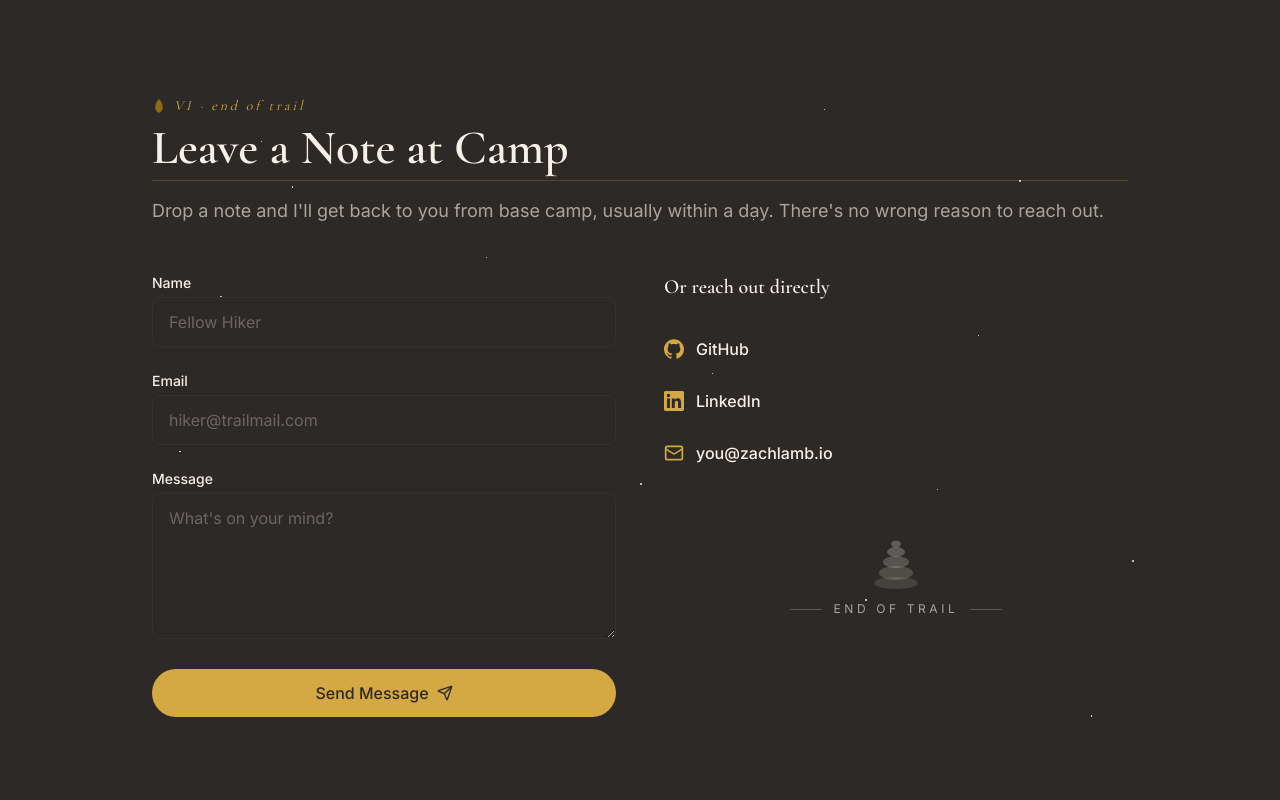
Scenario: Contact › Send another button resets to form
In the field labelled "Name": x=384, y=322 [152,297,616,347], type "Test"
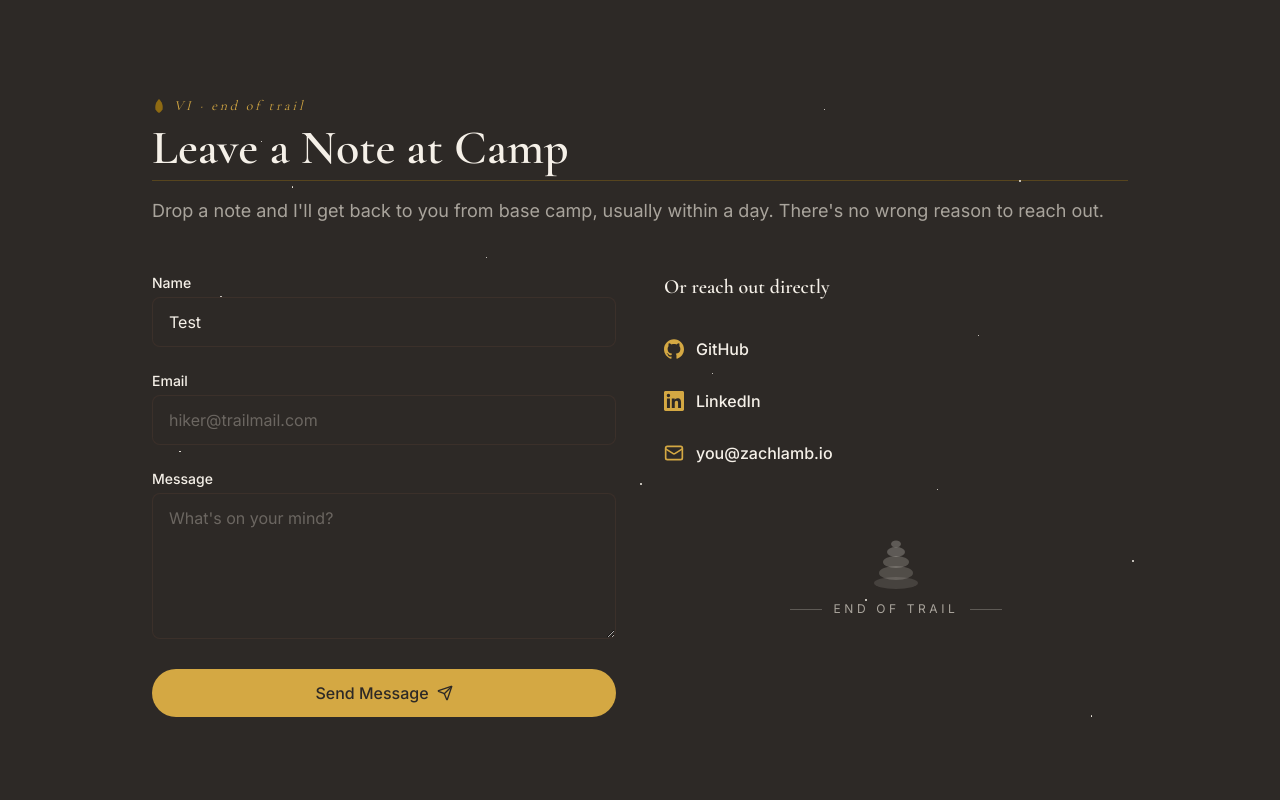
In the field labelled "Email": x=384, y=420 [152,395,616,445], type "test@test.com"
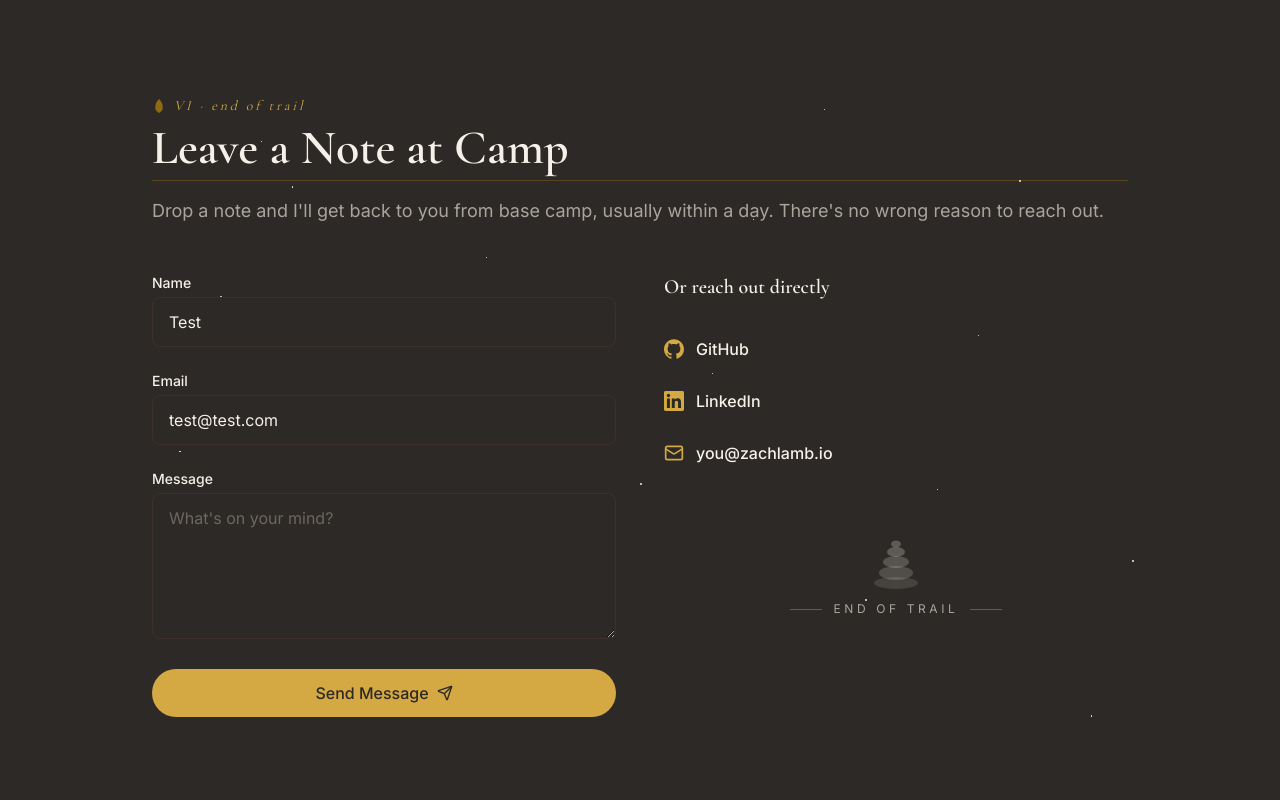
In the text box labelled "Message": x=384, y=566 [152,493,616,639], type "Hi"
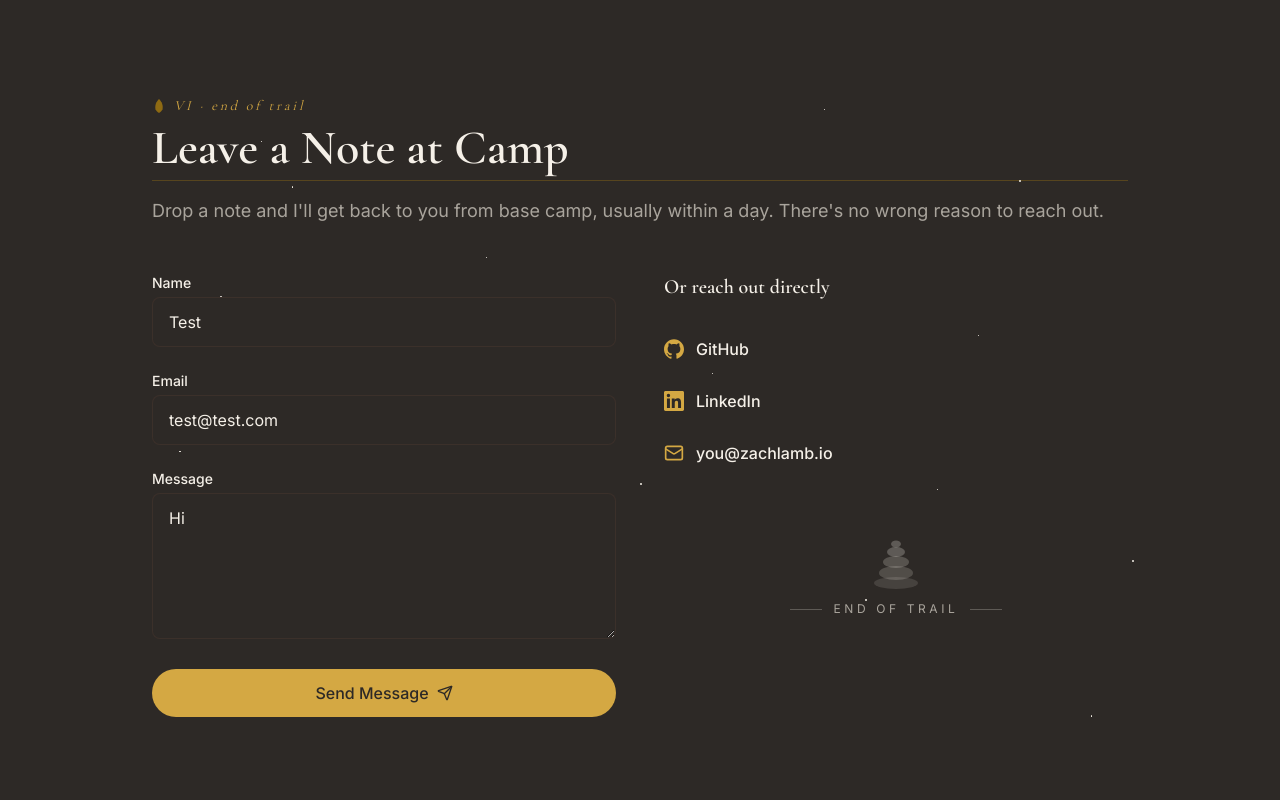
Submit the text "Send Message", box [152,273,616,741]
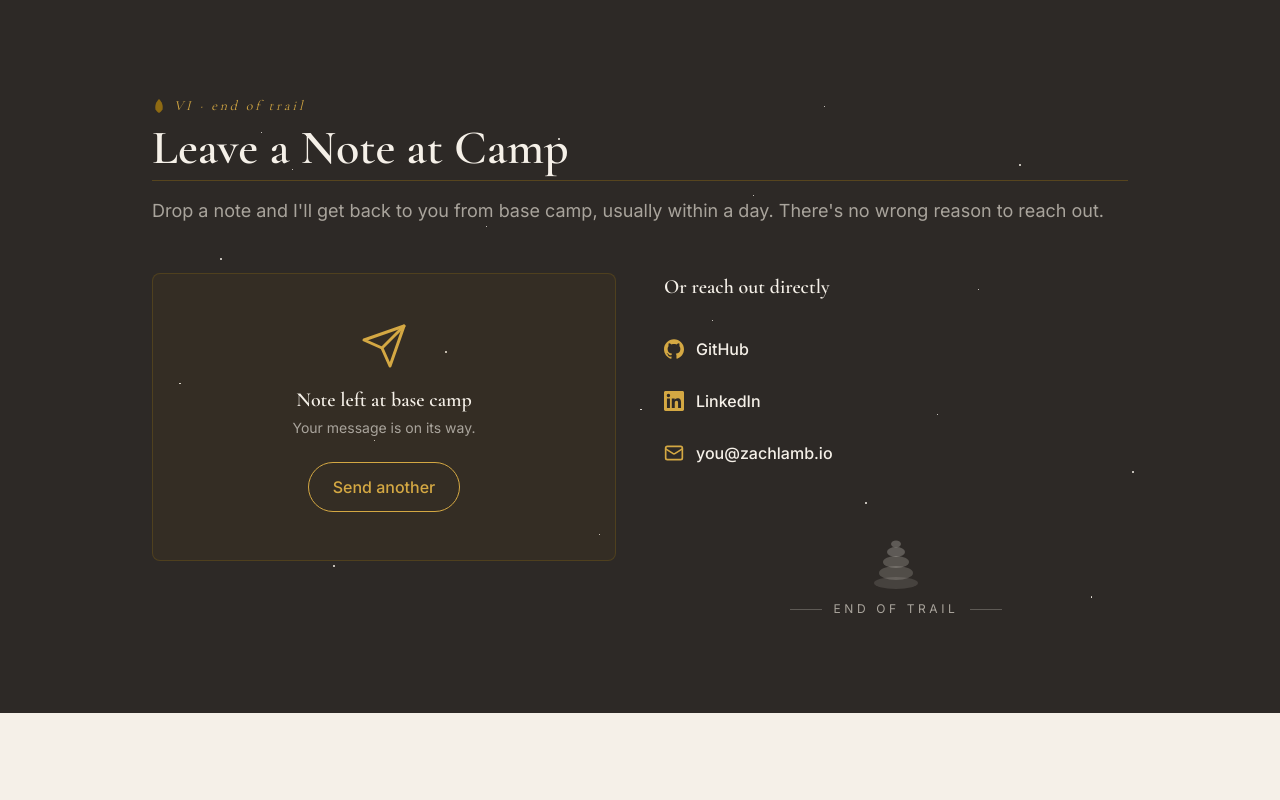
Expected: the button "Send another" is shown
Click the button "Send another": x=384, y=487 [308,462,460,512]
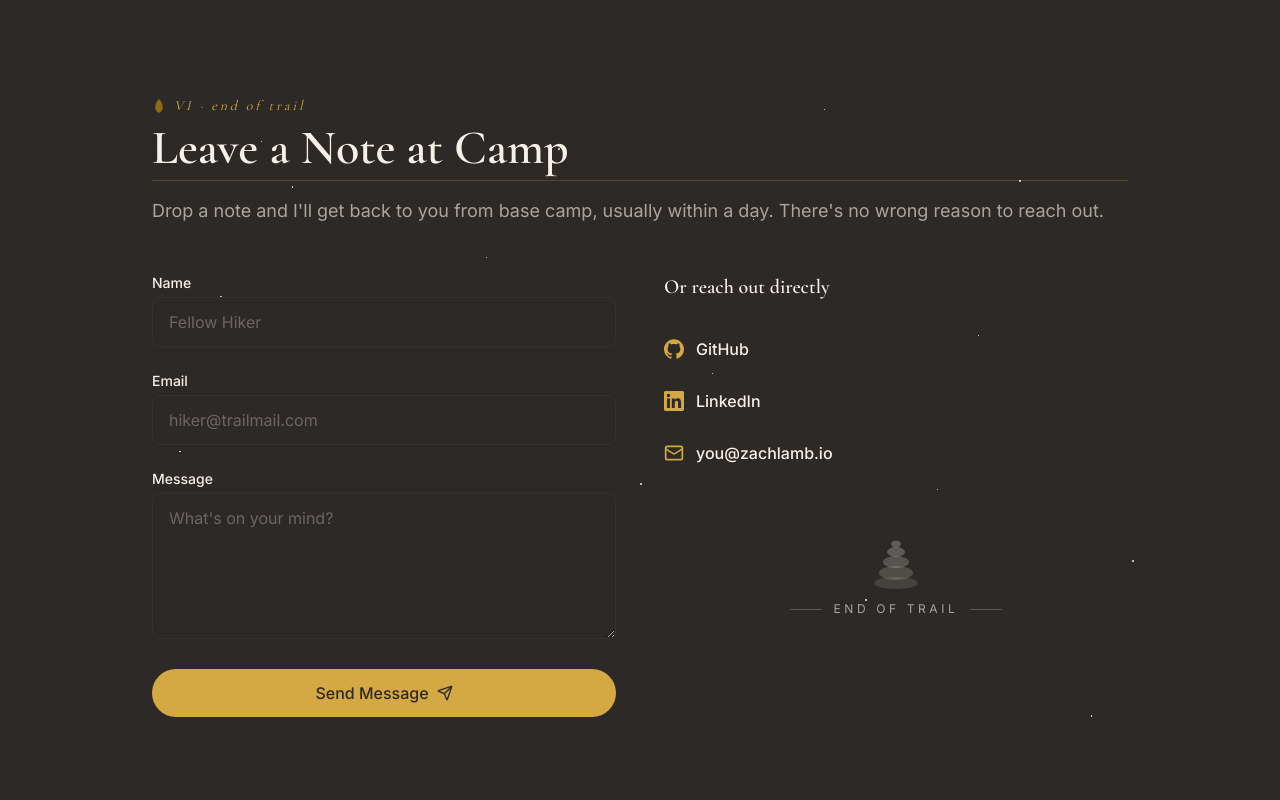
Expected: the field labelled "Name" is shown, [152,297,616,347]
Expected: the button "Send Message" is shown, [152,669,616,717]
Expected: the text "Note left at base camp" is gone
